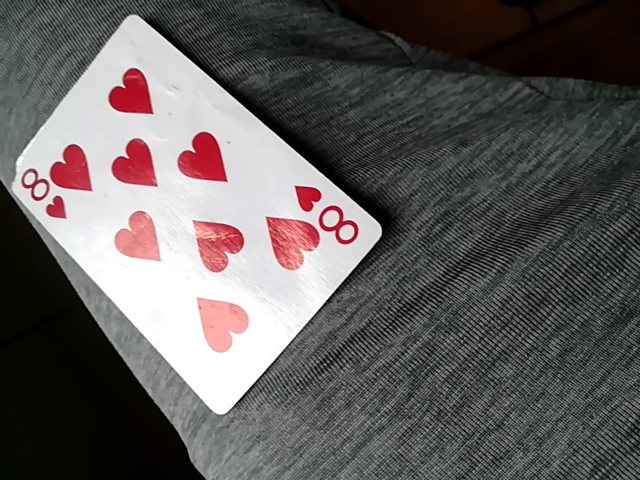hx 8: (8, 17, 392, 418)
